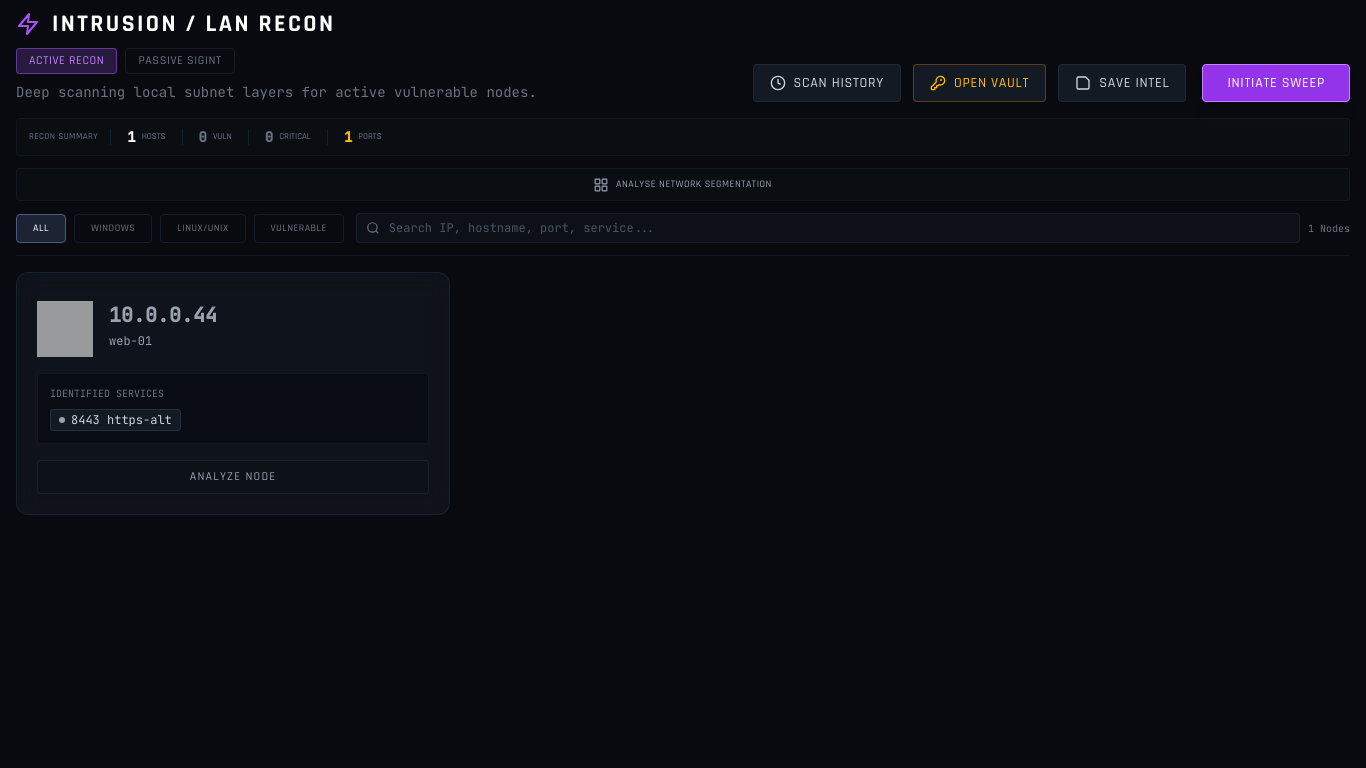
Test: the TLS inspection control › stays idle when the engine refuses the command
Click the button "Analyze Node": [233, 477] box [37, 460, 429, 494]
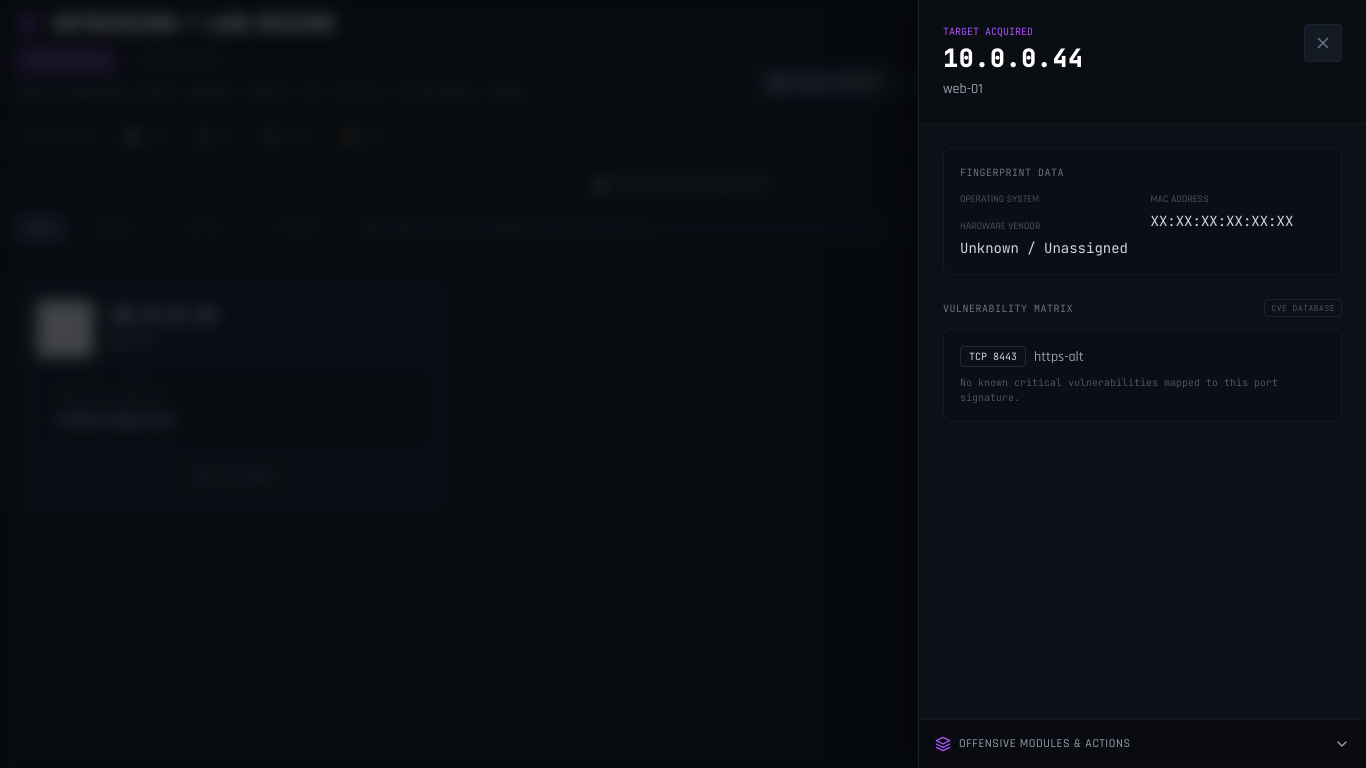
Click the button "OFFENSIVE MODULES & ACTIONS": [1045, 744] box [919, 720, 1365, 767]
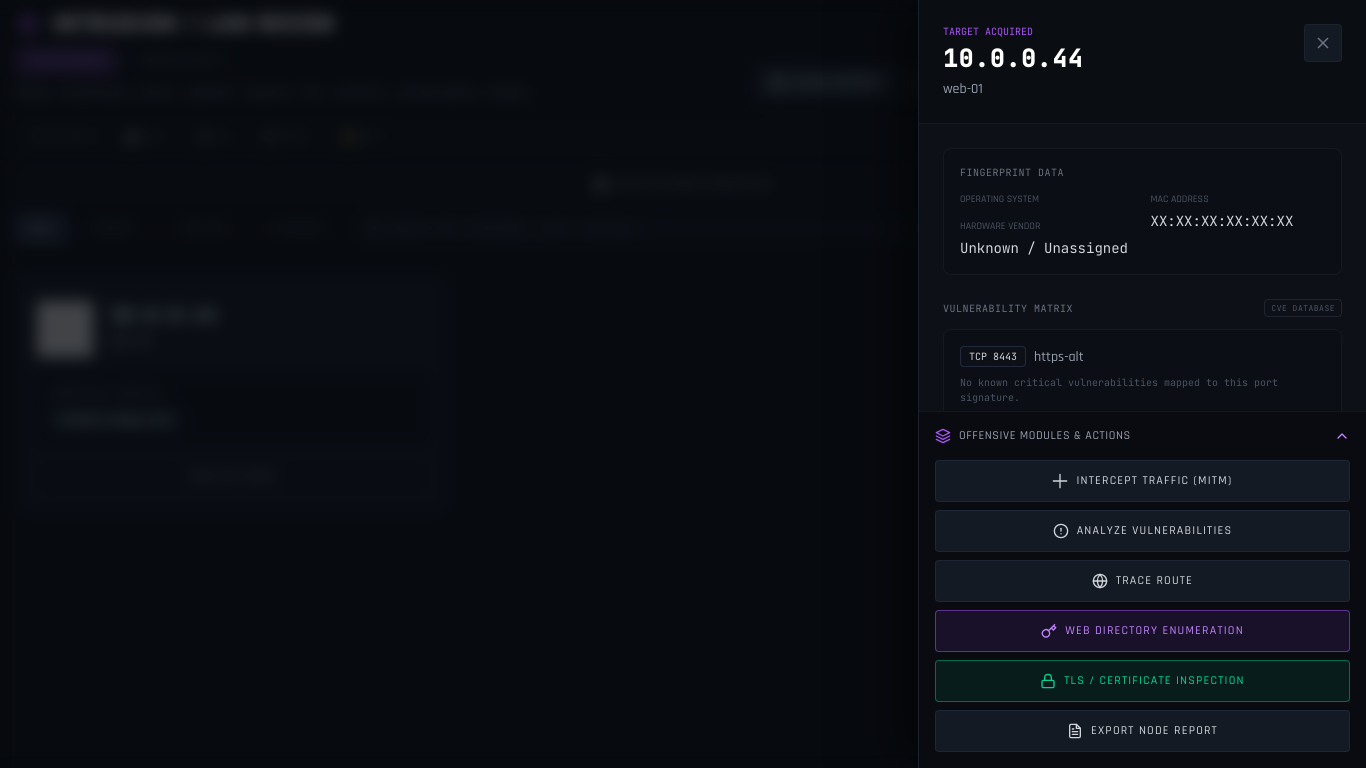
Click the button "TLS / CERTIFICATE INSPECTION": [1142, 681] box [935, 660, 1350, 702]
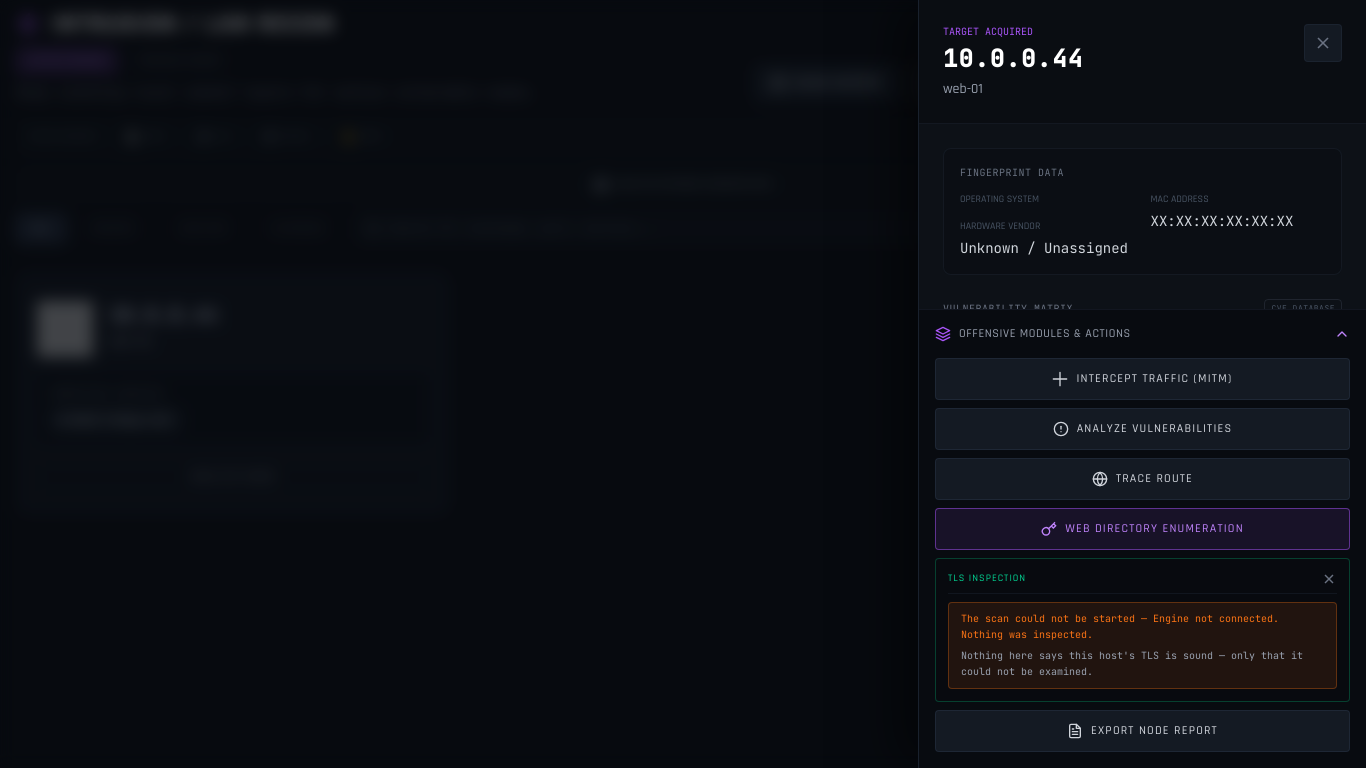
Check: the text "could not be started" is shown, box [961, 612, 1279, 641]
